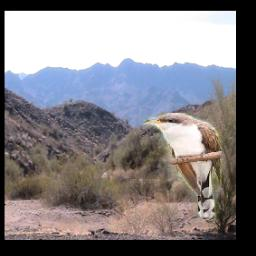Cuckoo: (144, 114, 223, 224)
